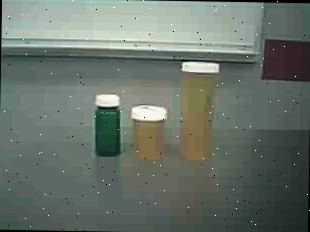Bottle A: (174, 54, 225, 166)
Bottle B: (131, 102, 170, 163)
Bottle C: (91, 90, 128, 161)
